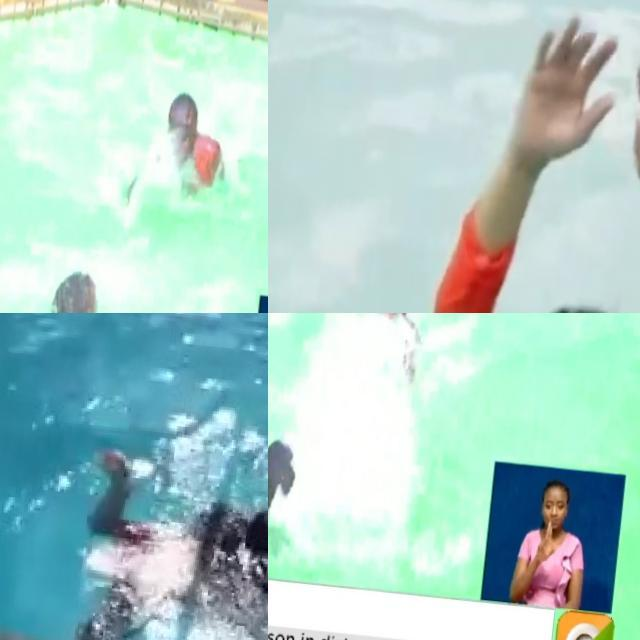drowning: (413, 0, 640, 313), (268, 408, 325, 545), (26, 251, 119, 313)
swimming: (0, 421, 268, 640), (132, 81, 250, 217), (339, 313, 442, 409)
